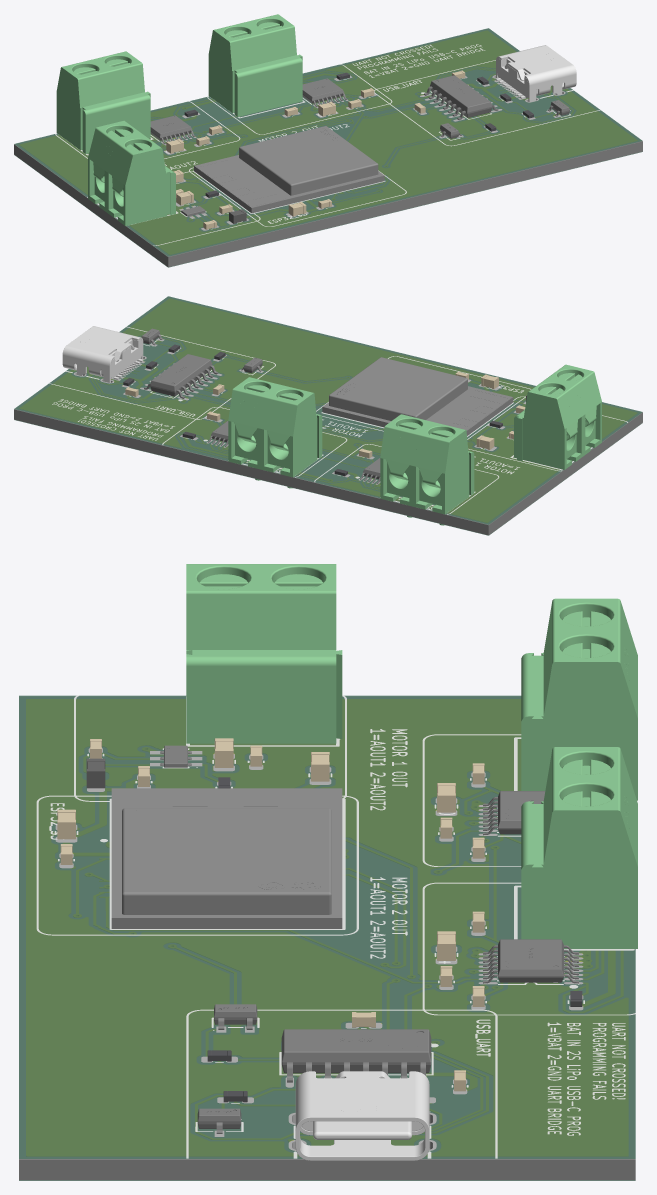
The model's file is board.glb.
3 renders of one model, top to bottom at view 1: azimuth 30°, elevation 25°; view 2: azimuth 150°, elevation 25°; view 3: azimuth 270°, elevation 25°, orthographic. The views are drawn at different scales.
Parts seen in each view (by area): view 1: =>[0:1:1:18], =>[0:1:1:13], =>[0:1:1:20], U2, J4, J1, J3, =>[0:1:1:16], J2, U3, =>[0:1:1:14], U5 (+2 smaller); view 2: =>[0:1:1:18], =>[0:1:1:13], =>[0:1:1:20], U2, J4, J3, J1, =>[0:1:1:16], J2, U3, =>[0:1:1:14], =>[0:1:1:19]; view 3: =>[0:1:1:18], =>[0:1:1:13], =>[0:1:1:20], U2, J1, J4, J3, =>[0:1:1:16], J2, U3, U5, =>[0:1:1:14] (+3 smaller).
Boxes of the visible parts, <box> form: =>[0:1:1:18]: <box>14,28,642,256</box>; =>[0:1:1:13]: <box>20,31,636,254</box>; =>[0:1:1:20]: <box>14,29,642,267</box>; U2: <box>194,126,384,213</box>; J4: <box>208,14,302,116</box>; J1: <box>88,120,175,225</box>; J3: <box>56,51,150,153</box>; =>[0:1:1:16]: <box>55,44,600,245</box>; J2: <box>496,45,576,101</box>; U3: <box>424,75,498,119</box>; =>[0:1:1:14]: <box>161,75,570,230</box>; U5: <box>302,78,347,107</box>; =>[0:1:1:18]: <box>14,296,642,524</box>; =>[0:1:1:13]: <box>20,299,636,522</box>; =>[0:1:1:20]: <box>14,297,642,535</box>; U2: <box>322,357,513,435</box>; J4: <box>228,377,322,488</box>; J3: <box>380,414,474,525</box>; J1: <box>514,364,601,469</box>; =>[0:1:1:16]: <box>49,326,627,514</box>; J2: <box>62,326,143,382</box>; U3: <box>144,354,218,398</box>; =>[0:1:1:14]: <box>74,338,525,485</box>; =>[0:1:1:19]: <box>15,420,642,535</box>; =>[0:1:1:18]: <box>19,695,635,1158</box>; =>[0:1:1:13]: <box>26,699,627,1155</box>; =>[0:1:1:20]: <box>19,697,635,1180</box>; U2: <box>111,788,342,928</box>; J1: <box>186,564,342,743</box>; J4: <box>521,747,637,948</box>; J3: <box>521,598,637,800</box>; =>[0:1:1:16]: <box>36,695,635,1158</box>; J2: <box>295,1071,429,1160</box>; U3: <box>281,1029,431,1082</box>; U5: <box>483,939,578,983</box>; =>[0:1:1:14]: <box>55,748,583,1150</box>.
Size of the model in its own units: 0.0738 by 0.0137 by 0.0413.
